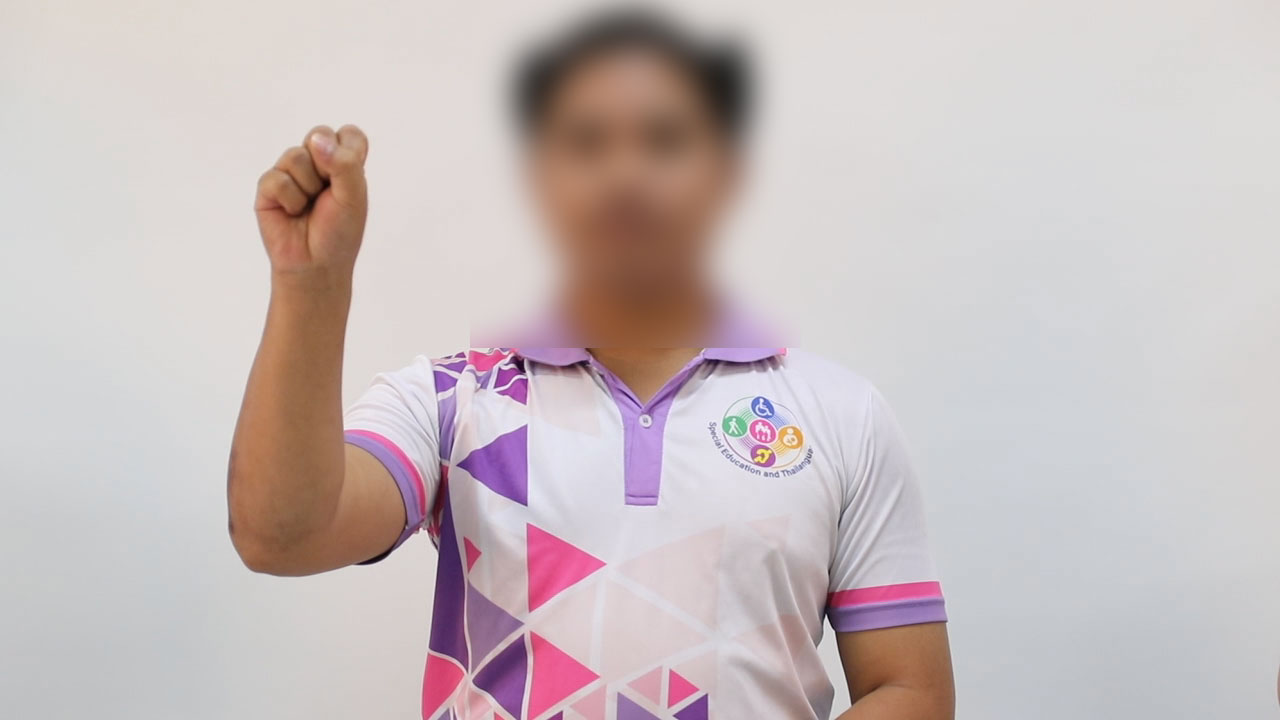sor: (240, 103, 390, 287)
